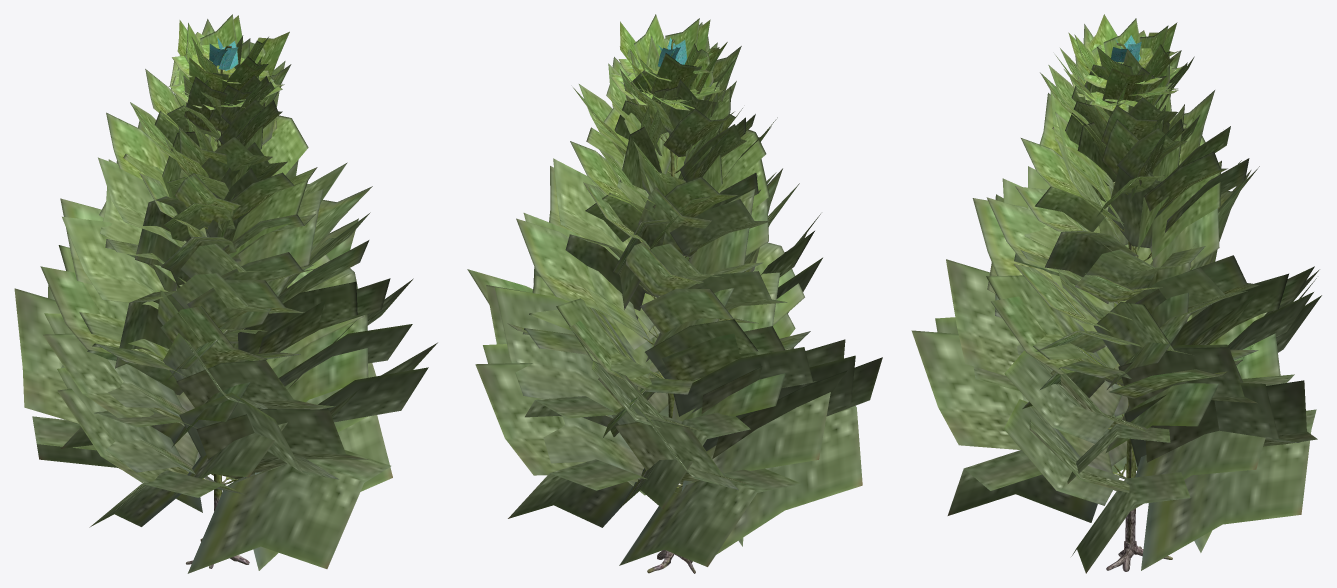
The model's file is tree_2.obj.
The picture shows the model from 3 angles, left to right: view 1: azimuth 30°, elevation 25°; view 2: azimuth 150°, elevation 25°; view 3: azimuth 270°, elevation 25°; orthographic projection.
Parts seen in each view (by area): view 1: Red_Spru; view 2: Red_Spru; view 3: Red_Spru.
Boxes of the visible parts, x1,y1,x2,y2 form: Red_Spru: (14, 14, 437, 573); Red_Spru: (467, 14, 882, 573); Red_Spru: (911, 14, 1321, 573).
Bounding box in the file's own units: 14.26 × 20.17 × 14.04.
Materials: 1 (1 with a texture image).
